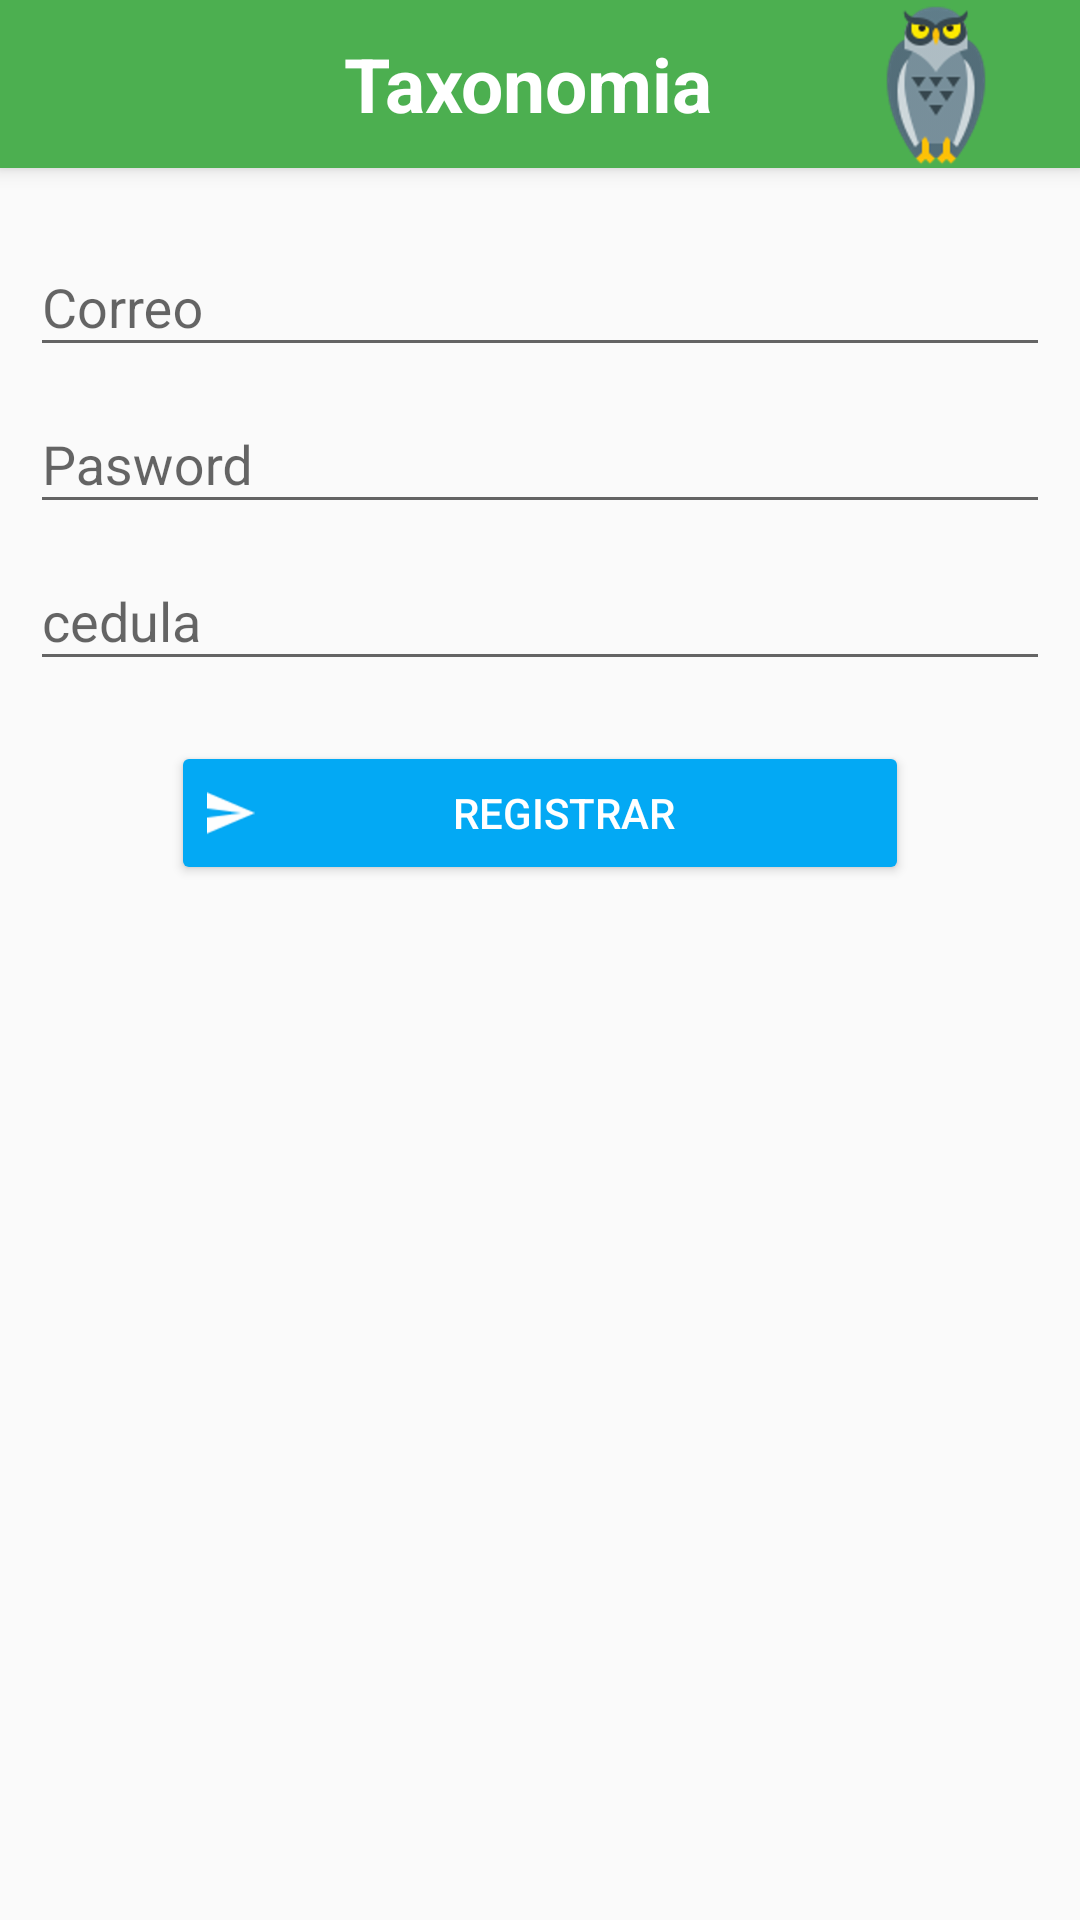

Named icons in this screenshot (1080 × 1920) and their bounding boxes, (x1, y1, x2, y2):
aves: (887, 7, 985, 164)
